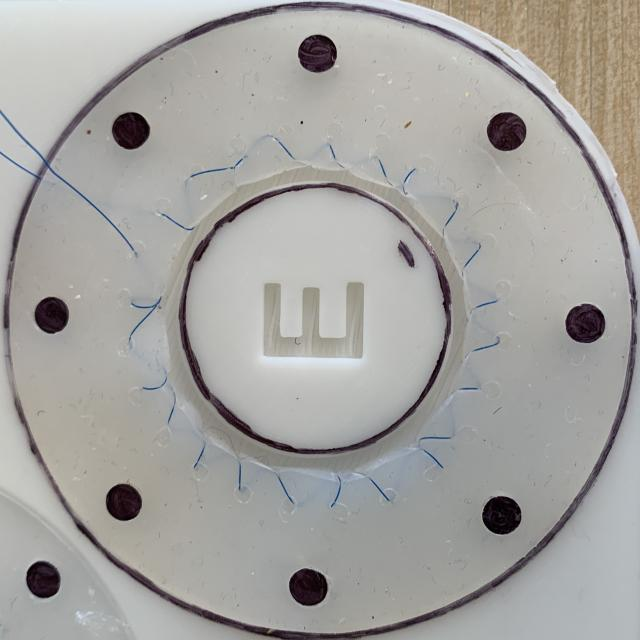suture: (0, 109, 134, 251), (189, 158, 244, 179), (129, 306, 157, 345), (462, 243, 481, 278), (274, 473, 295, 504), (443, 202, 459, 236), (161, 214, 194, 230), (369, 477, 390, 501), (274, 138, 294, 161), (471, 337, 500, 352), (142, 374, 167, 390), (130, 296, 162, 308), (424, 450, 444, 469), (330, 476, 341, 508), (330, 144, 344, 168), (403, 168, 415, 195), (194, 442, 205, 469), (168, 393, 176, 424), (418, 436, 452, 443), (473, 300, 497, 309), (378, 159, 386, 179), (238, 460, 241, 490), (459, 387, 478, 389)
